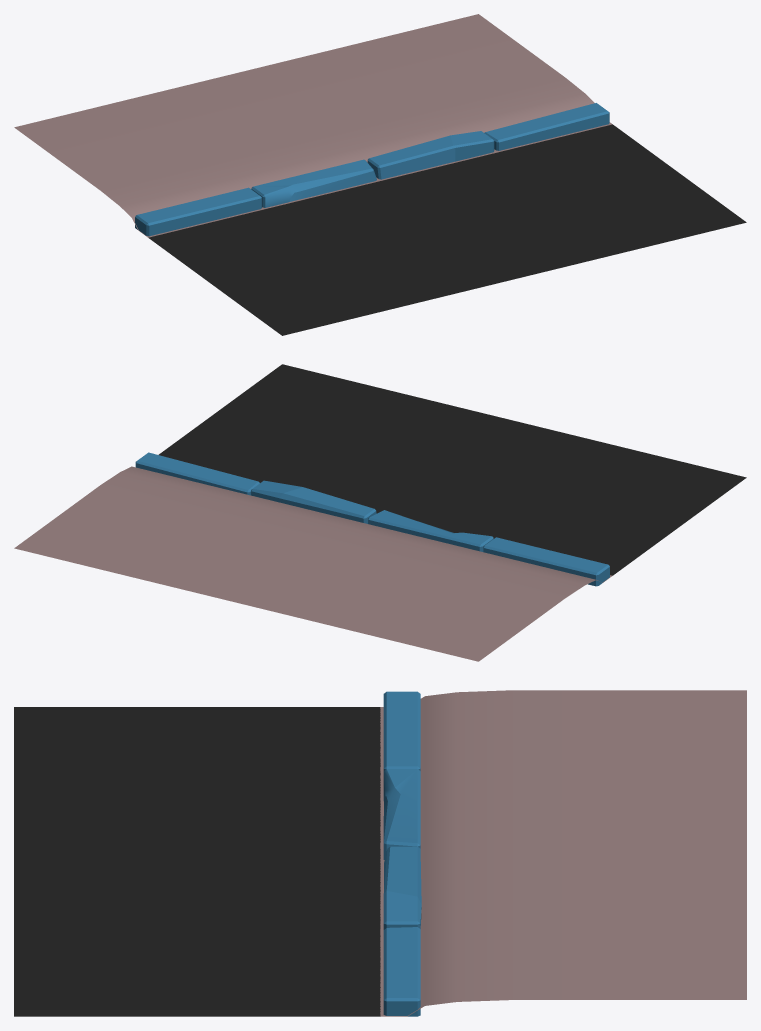
Rendered from notrans side tile lod0.FBX.
3 views of the same model, one above another, from view 1: azimuth 30°, elevation 25°; view 2: azimuth 150°, elevation 25°; view 3: azimuth 270°, elevation 25° (orthographic). The views are drawn at different scales.
Parts seen in each view (by area): view 1: Object1207; view 2: Object1207; view 3: Object1207.
Part boxes in pixels (bbox=[...]): Object1207: bbox=[14, 14, 746, 335]; Object1207: bbox=[14, 364, 746, 661]; Object1207: bbox=[14, 690, 746, 1016].
Bounding box in the file's own units: 3 × 0.0974 × 3.
